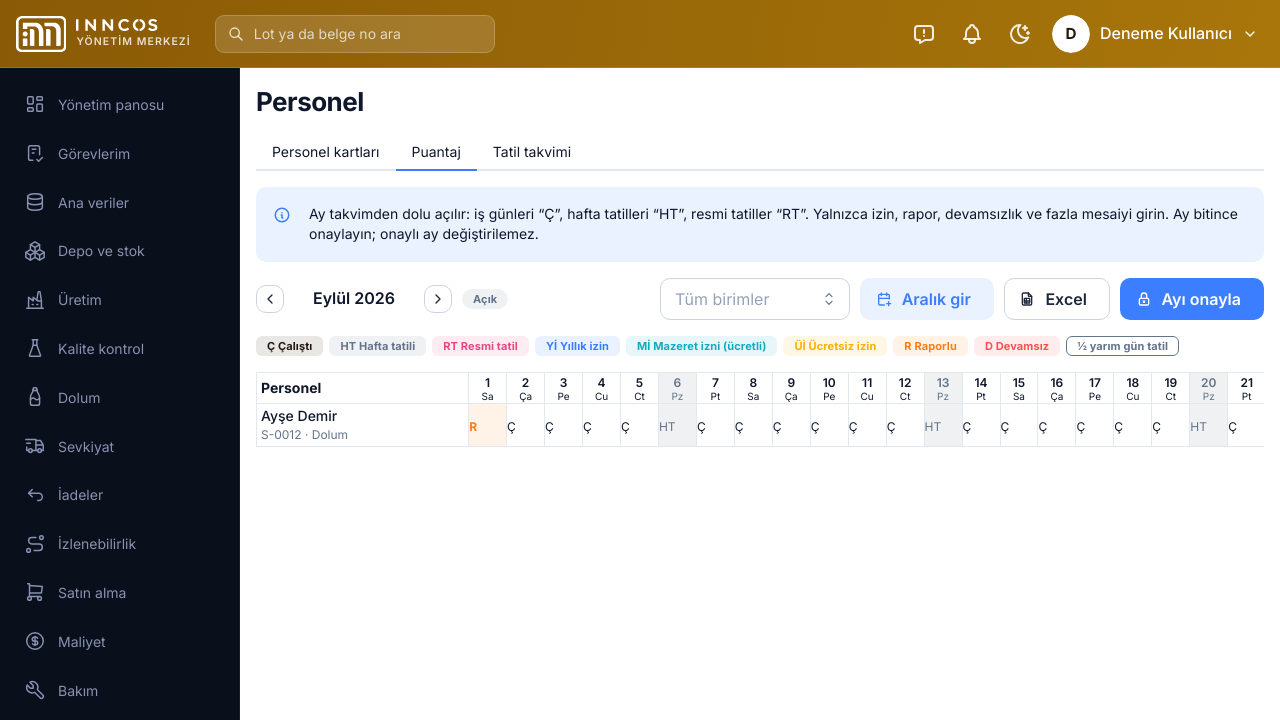
Scenario: puantaj tablosu › kodları ve toplamları gösterir; hücreden gün kaydedilir
Check: the text "Ayşe Demir" is shown, box [261,408,337,424]
Check: the text "S-0012 · Dolum" is shown, box [261,427,348,442]
Click the 1st button "Ç". click: click(526, 425)
box: [507,408,544,442]
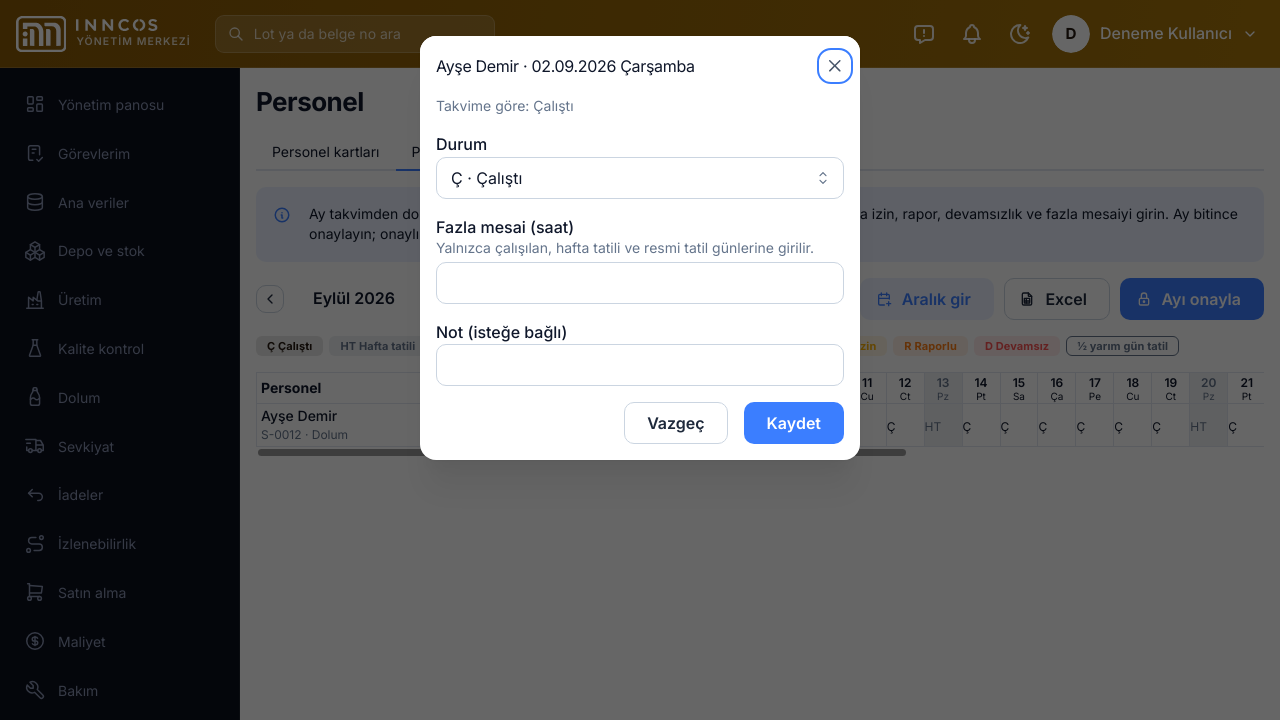
Type "30" into the field labelled "Fazla mesai (saat)". click: (640, 283)
box: [436,262,844,304]
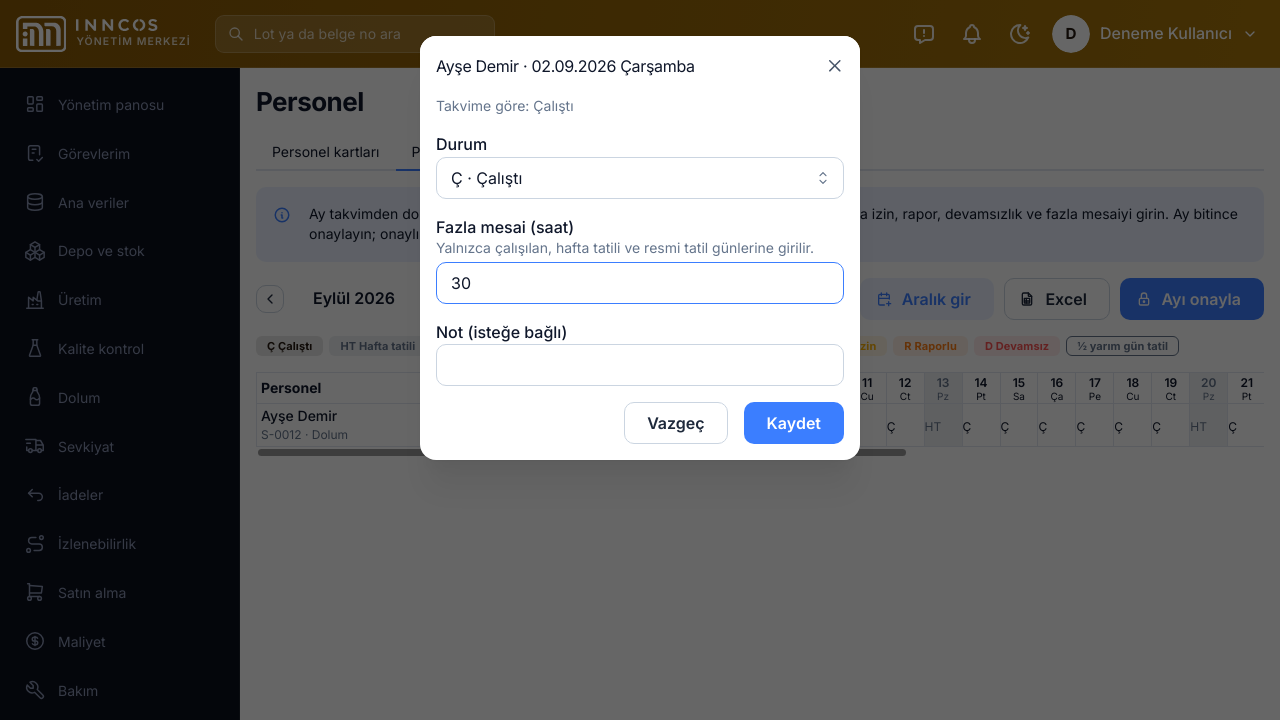
Click the button "Kaydet". click: click(794, 424)
box: [744,402,844,444]
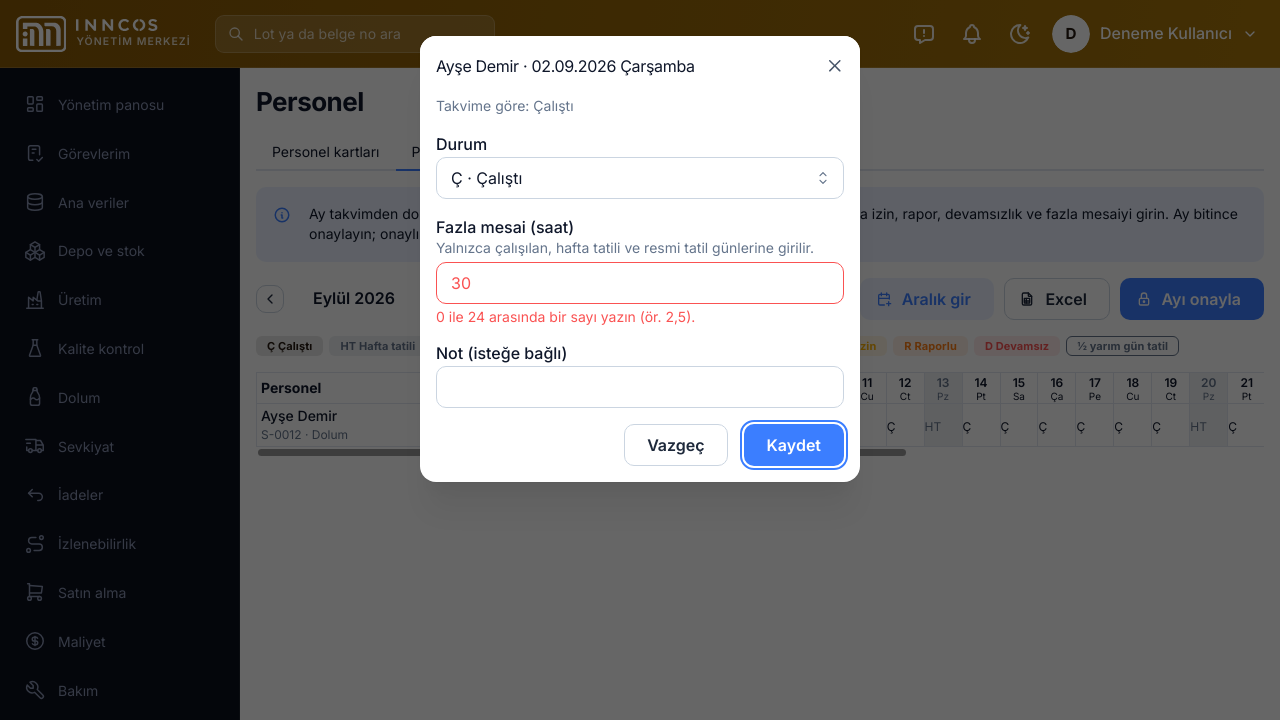
Check: the text "0 ile 24 arasında bir sayı yazın (ör. 2,5)." is shown, box [436,308,695,325]
Replace the text in the field labelled "Fazla mesai (saat)" with "2,5". click: (640, 283)
box: [436,262,844,304]
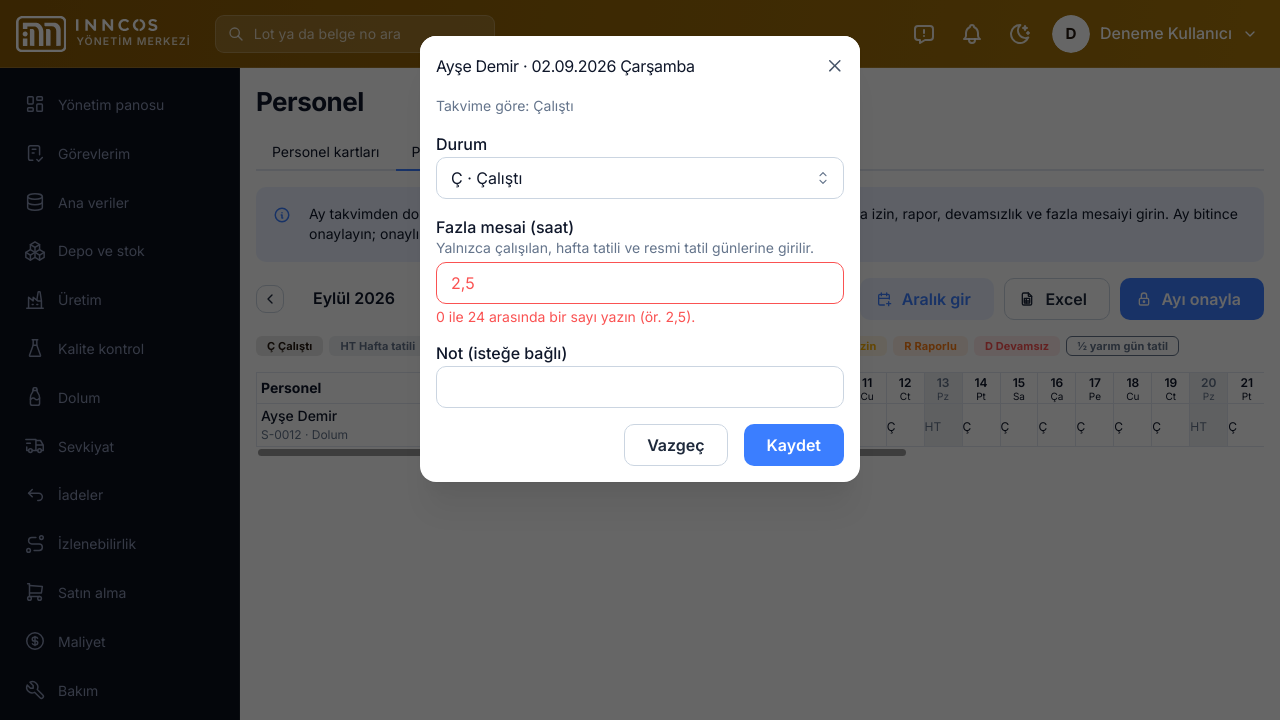
Type "Sipariş" into the field labelled "Not (isteğe bağlı)". click: (640, 387)
box: [436,366,844,408]
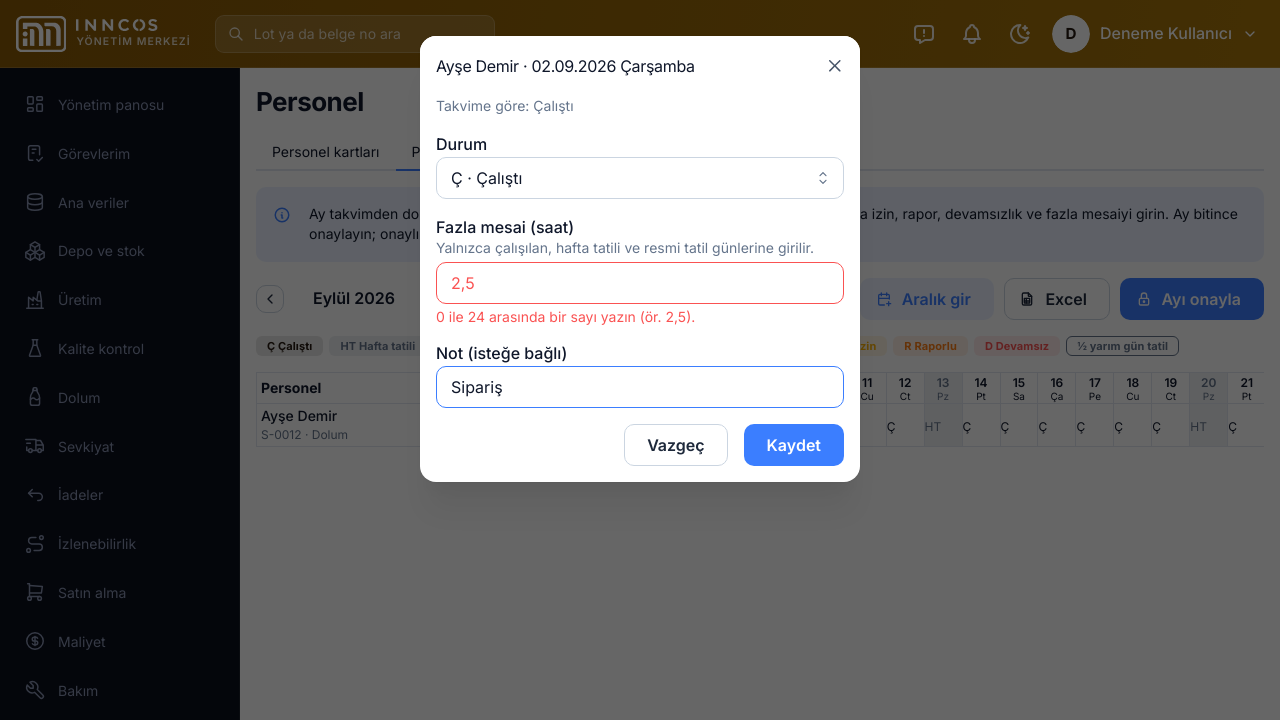
Click the button "Kaydet". click: click(794, 445)
box: [744,424,844,466]
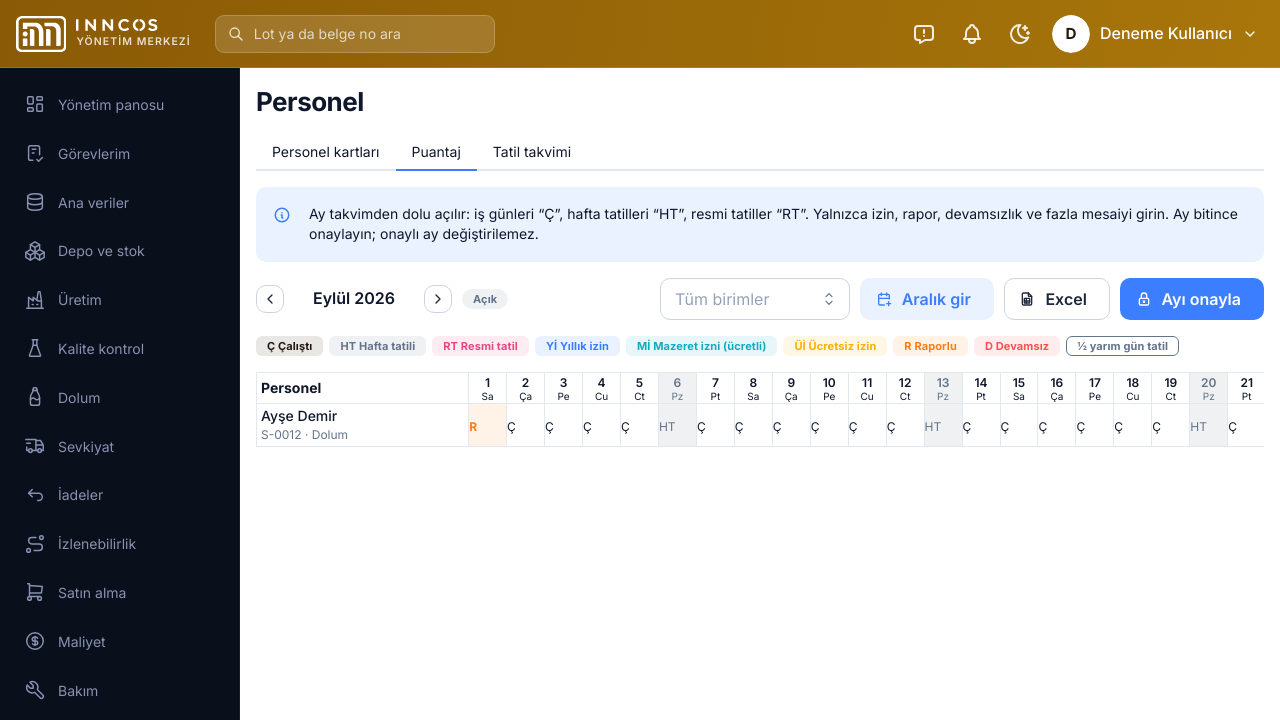
Check: the dialog is gone
